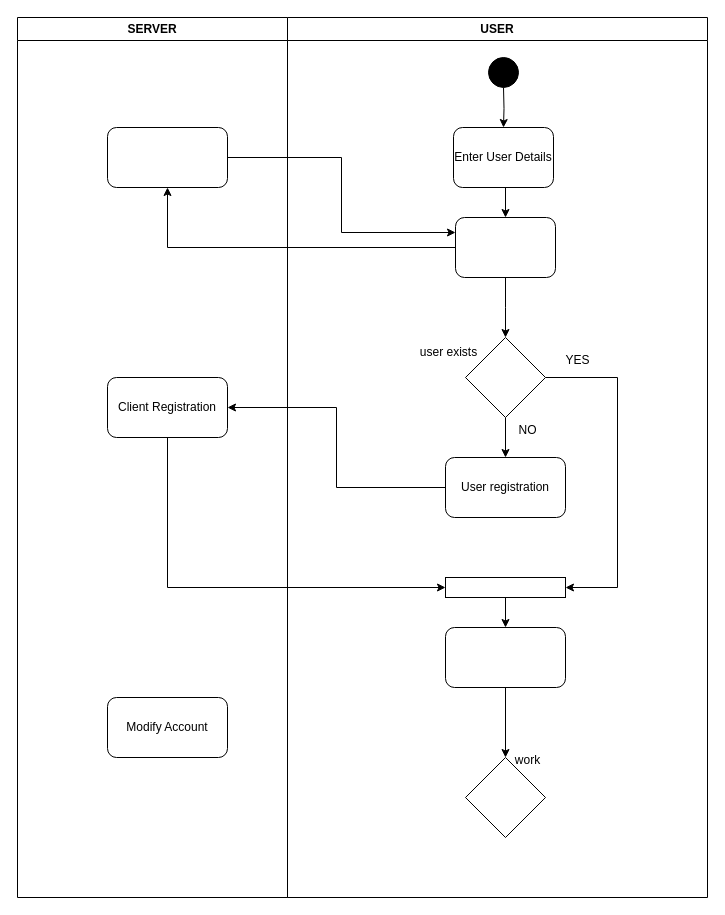
Image size: 725x915. Some labels were removed from this diagram. The centre of each missing label's shape, as x and y in pixels:
Authenticator: pixel 167 157
User Account: pixel 505 657
verify user details: pixel 505 247
